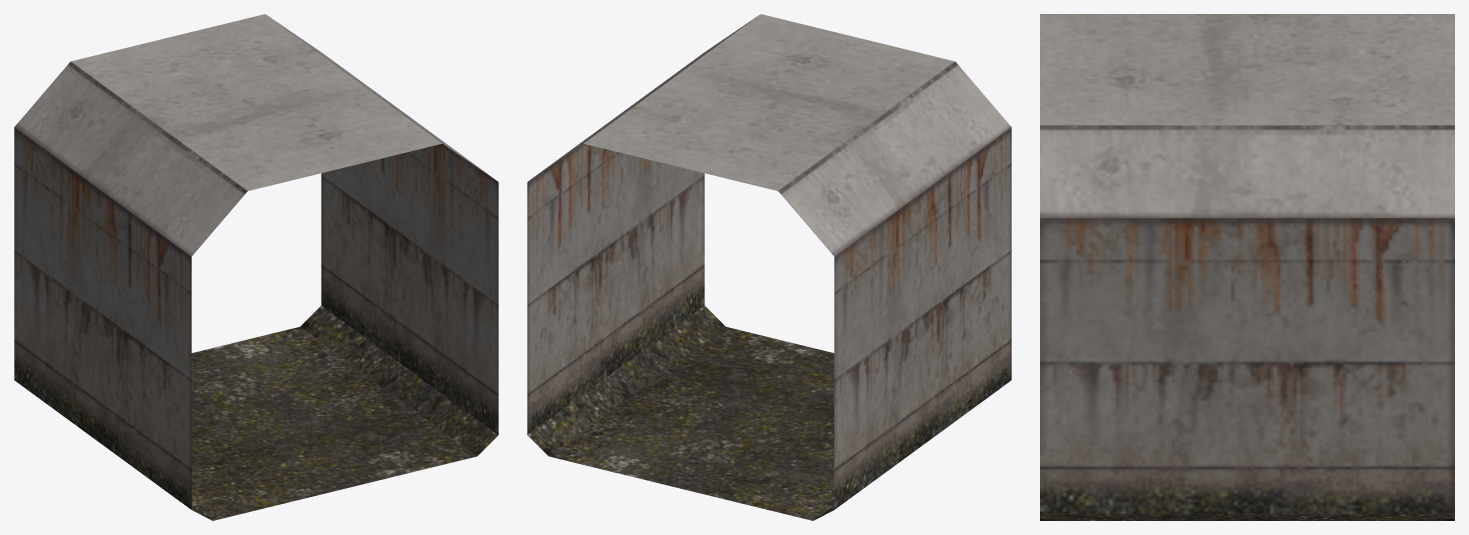
File: MESH_ESGOTO_1_006.fbx
3 views of the same model, side by side, from view 1: azimuth 30°, elevation 25°; view 2: azimuth 150°, elevation 25°; view 3: azimuth 270°, elevation 25° (orthographic). The views are drawn at different scales.
Parts seen in each view (by area): view 1: MESH_ESGOTO_1.006; view 2: MESH_ESGOTO_1.006; view 3: MESH_ESGOTO_1.006.
Boxes of the visible parts, x1,y1,x2,y2 form: MESH_ESGOTO_1.006: [14, 14, 498, 520]; MESH_ESGOTO_1.006: [527, 14, 1011, 520]; MESH_ESGOTO_1.006: [1040, 14, 1454, 520].
Size of the model in its own units: 4 by 4 by 4.
